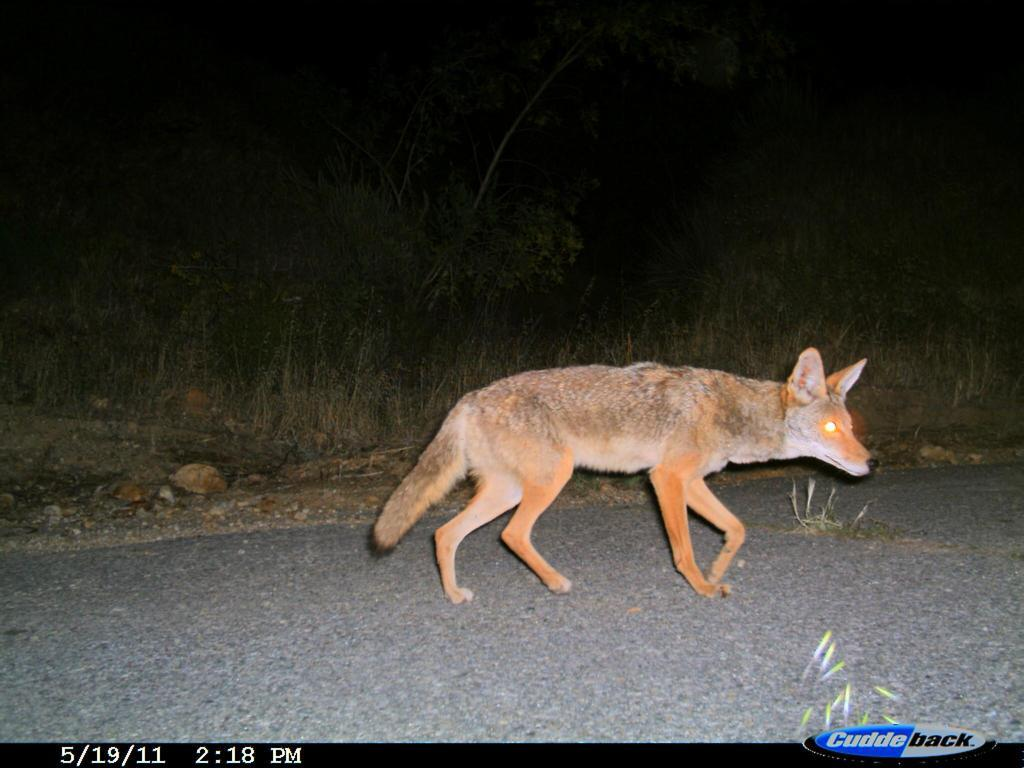coyote: (365, 350, 888, 614)
